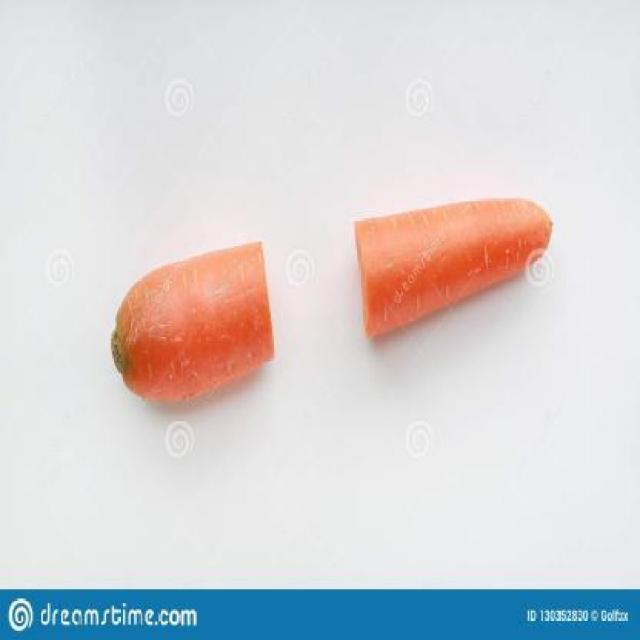carrot: (353, 190, 559, 344), (111, 236, 277, 410)
